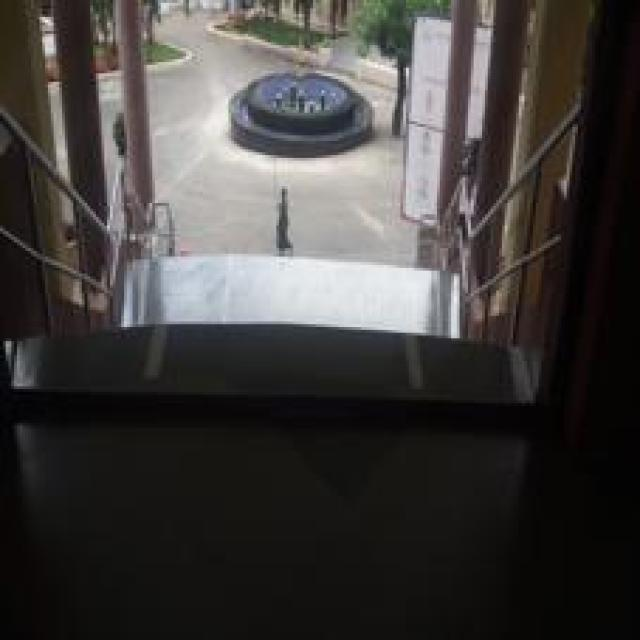downstair: (139, 280, 430, 390)
